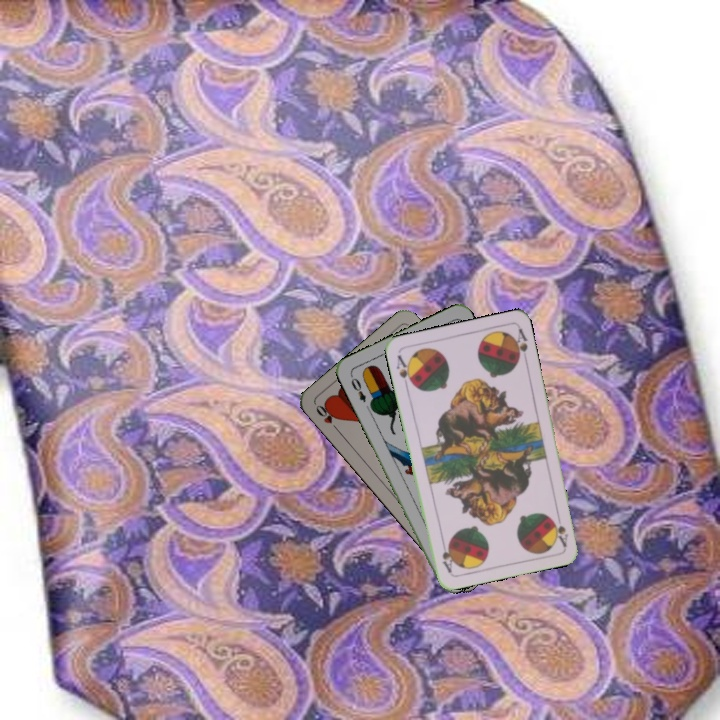EO: (346, 371, 369, 405)
HO: (312, 400, 342, 435)
SA: (392, 351, 416, 391), (549, 509, 570, 549)
